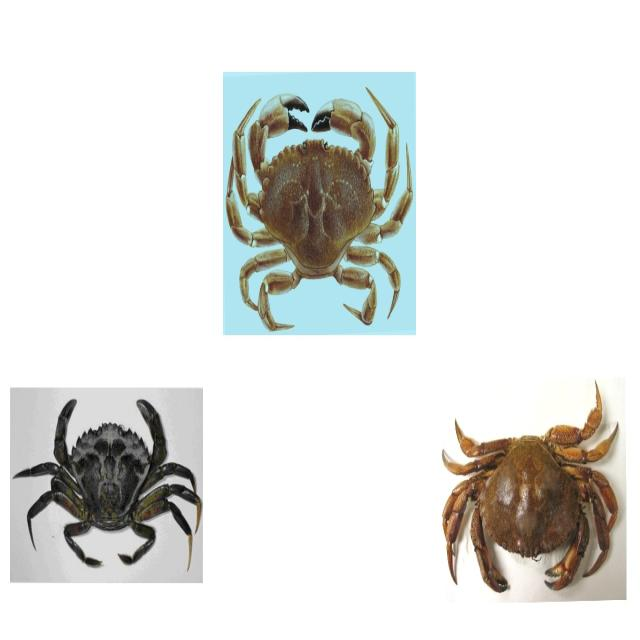egc: (8, 389, 200, 588)
jonah_crab: (226, 72, 414, 332)
rock_crab: (445, 376, 617, 593)
